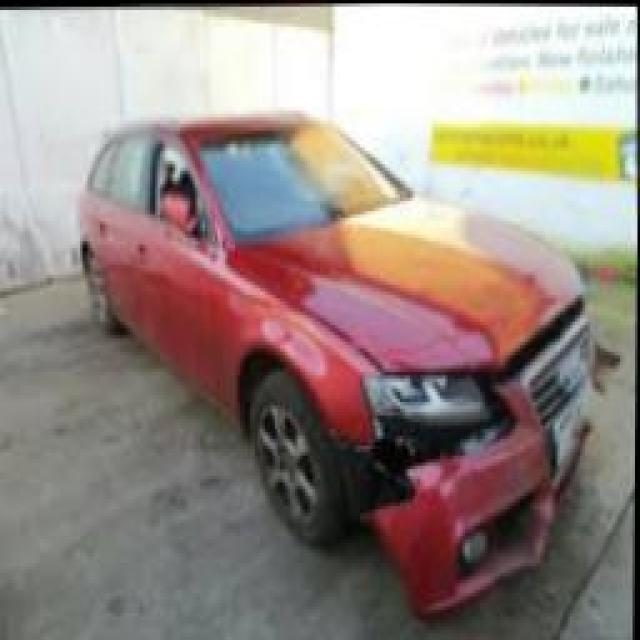replaceable: (366, 370, 547, 592)
